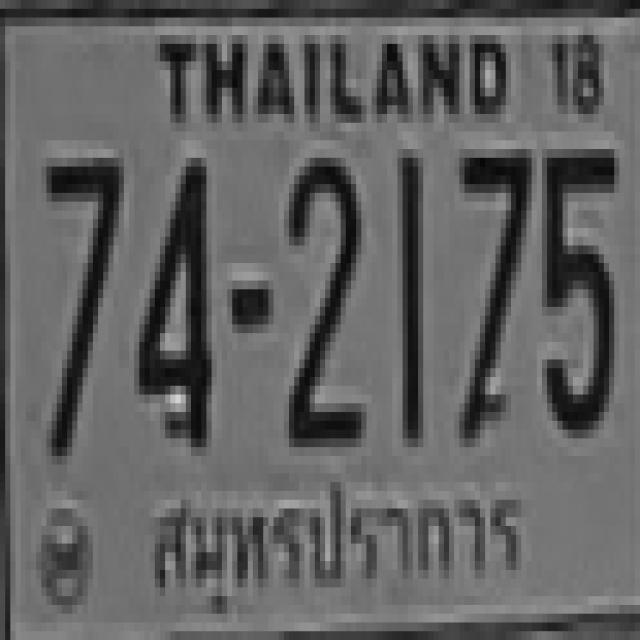1: (397, 149, 418, 438)
2: (284, 149, 356, 438)
4: (134, 149, 207, 438)
5: (537, 140, 614, 430)
7: (41, 144, 119, 452), (454, 145, 527, 434)
SamutPrakan: (143, 472, 530, 602)
